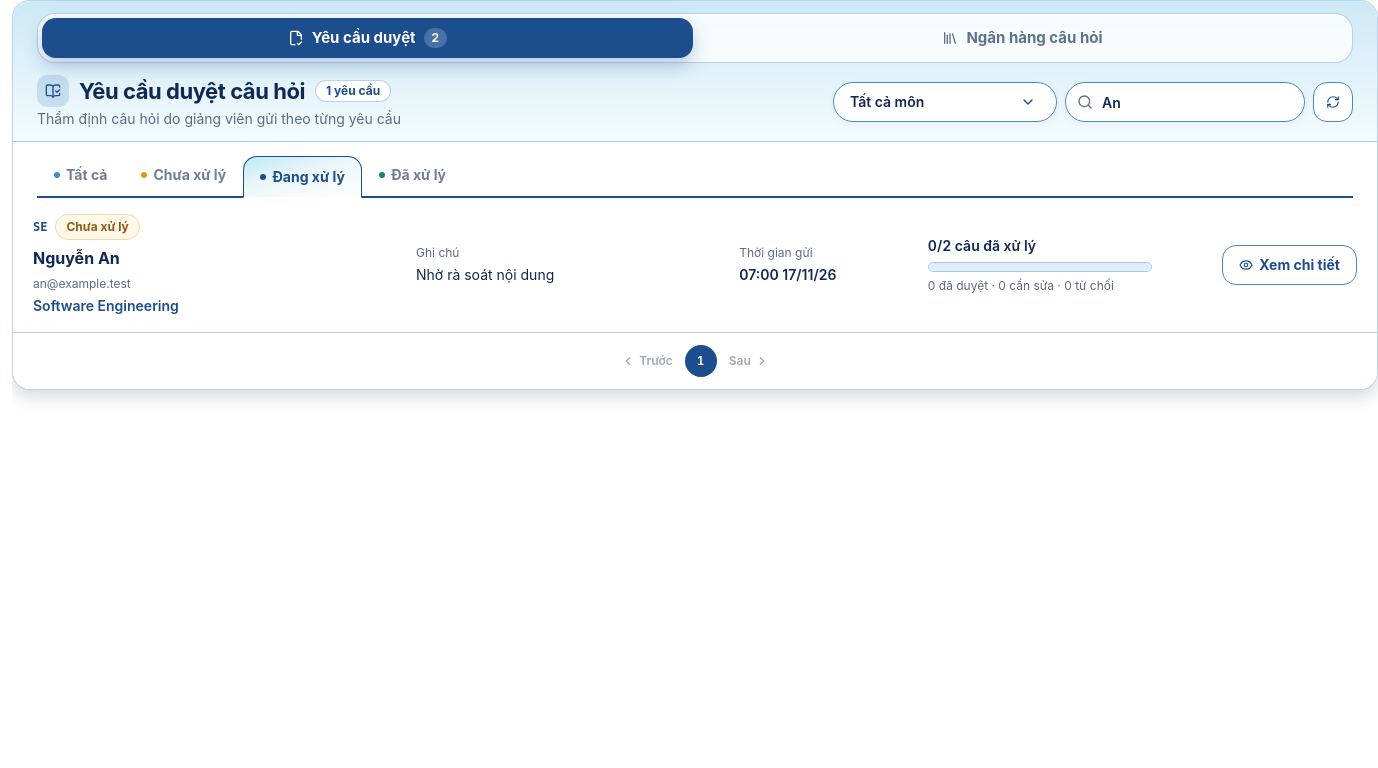
Scenario: Question review requests › keeps search and filters when returning from request details
The width and height of the screenshot is (1378, 768).
Expected: the heading "Nguyễn An" is shown, 33,248 -> 120,268
Expected: the search field named "Tìm yêu cầu" holds "An", 1065,82 -> 1305,122
Click the link "Xem chi tiết" at (1290, 265), box 1222,245 -> 1357,285
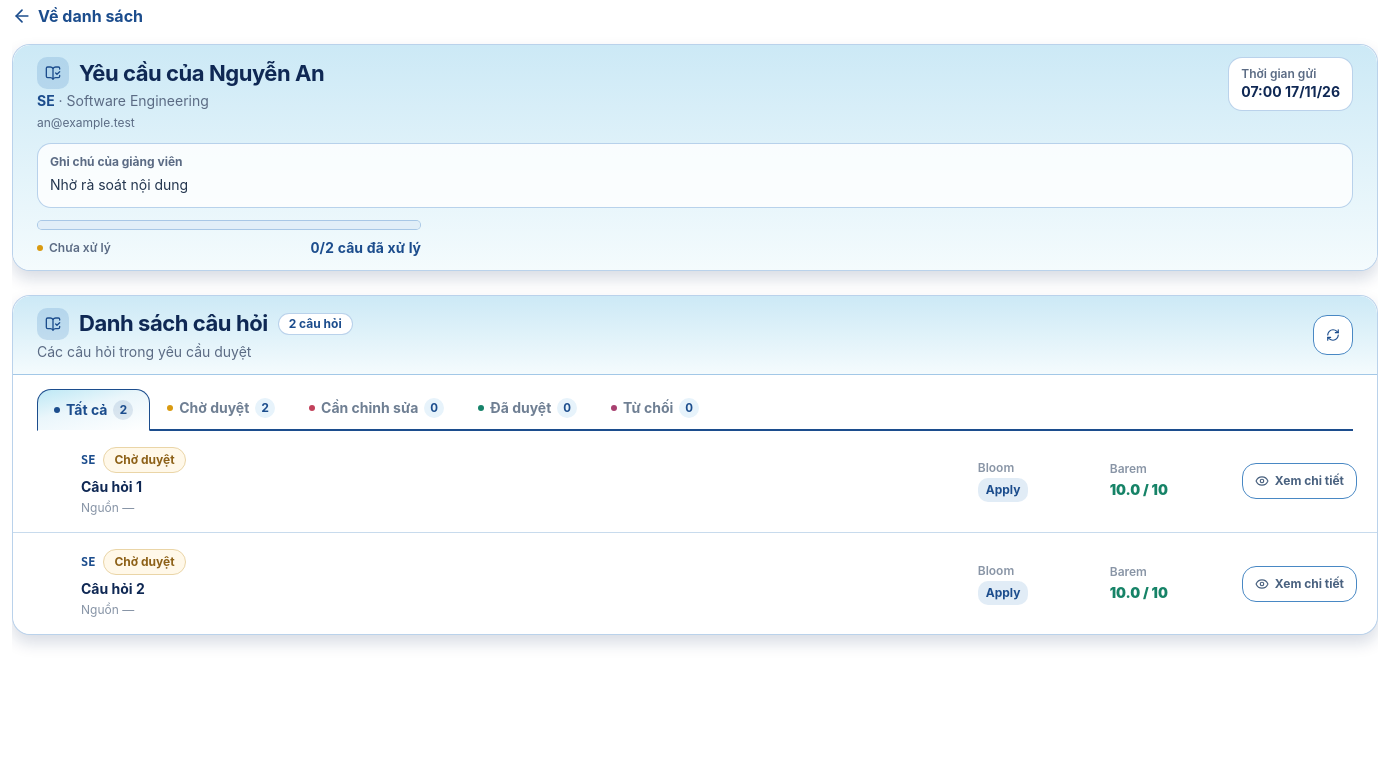
Expected: the text "Nhờ rà soát nội dung" is shown, 50,176 -> 188,193
Click the link "Về danh sách" at (78, 16), box 12,0 -> 143,32
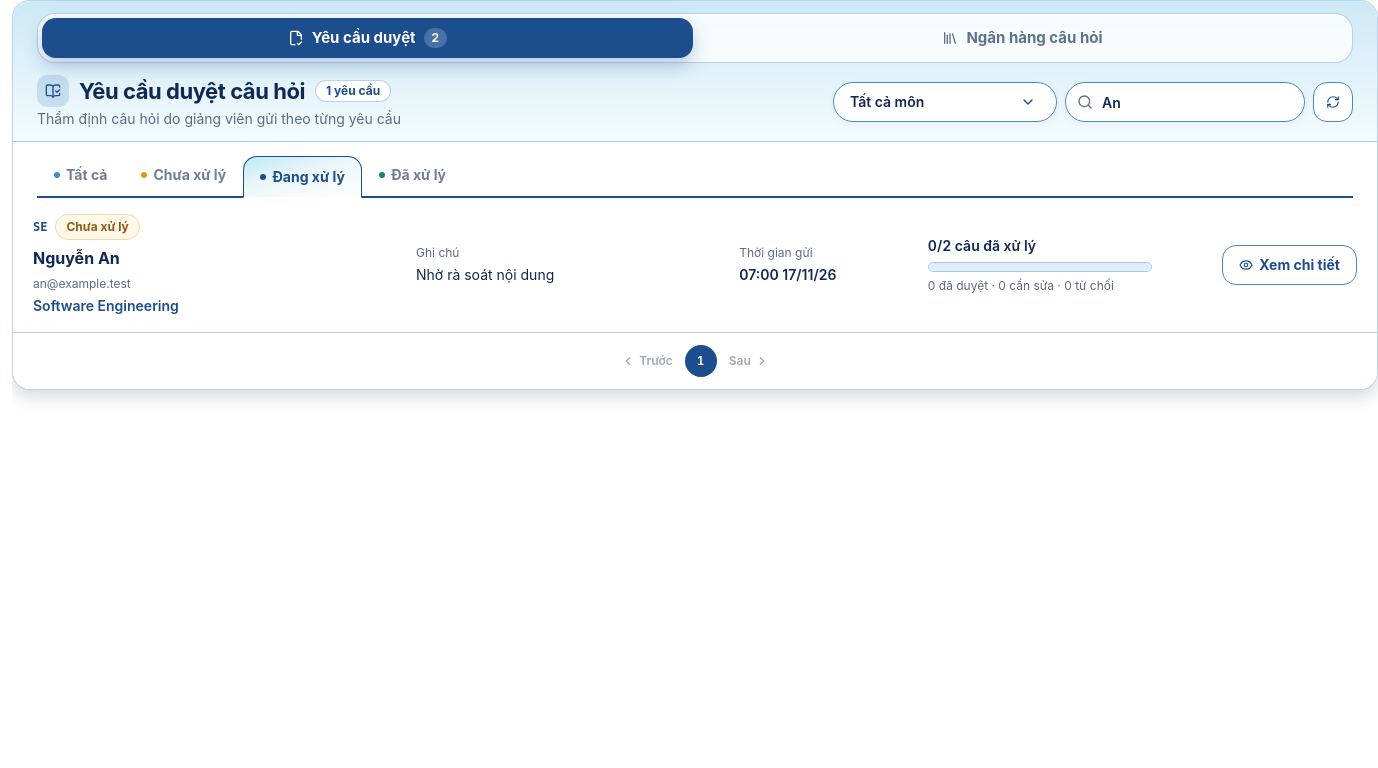
Expected: the heading "Nguyễn An" is shown, 33,248 -> 120,268
Expected: the search field named "Tìm yêu cầu" holds "An", 1065,82 -> 1305,122
Expected: the navigation bar named "Quản lý câu hỏi" is shown, 37,13 -> 1353,63
